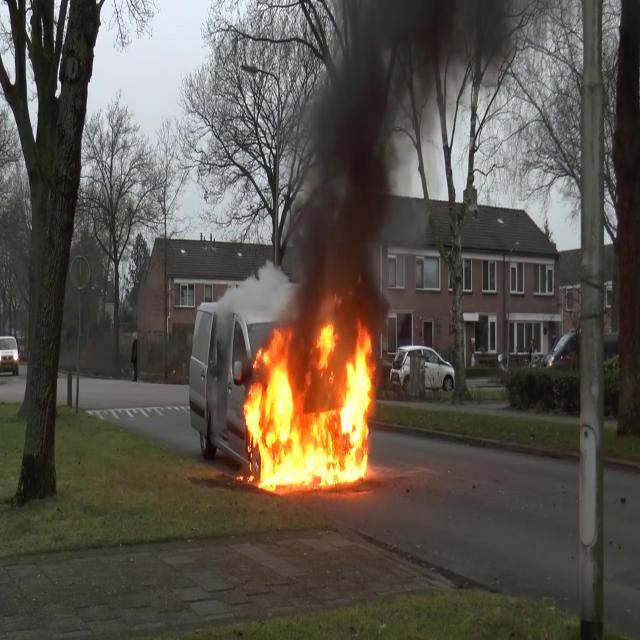Fire: (238, 316, 379, 493)
Smoke: (272, 0, 473, 318)
